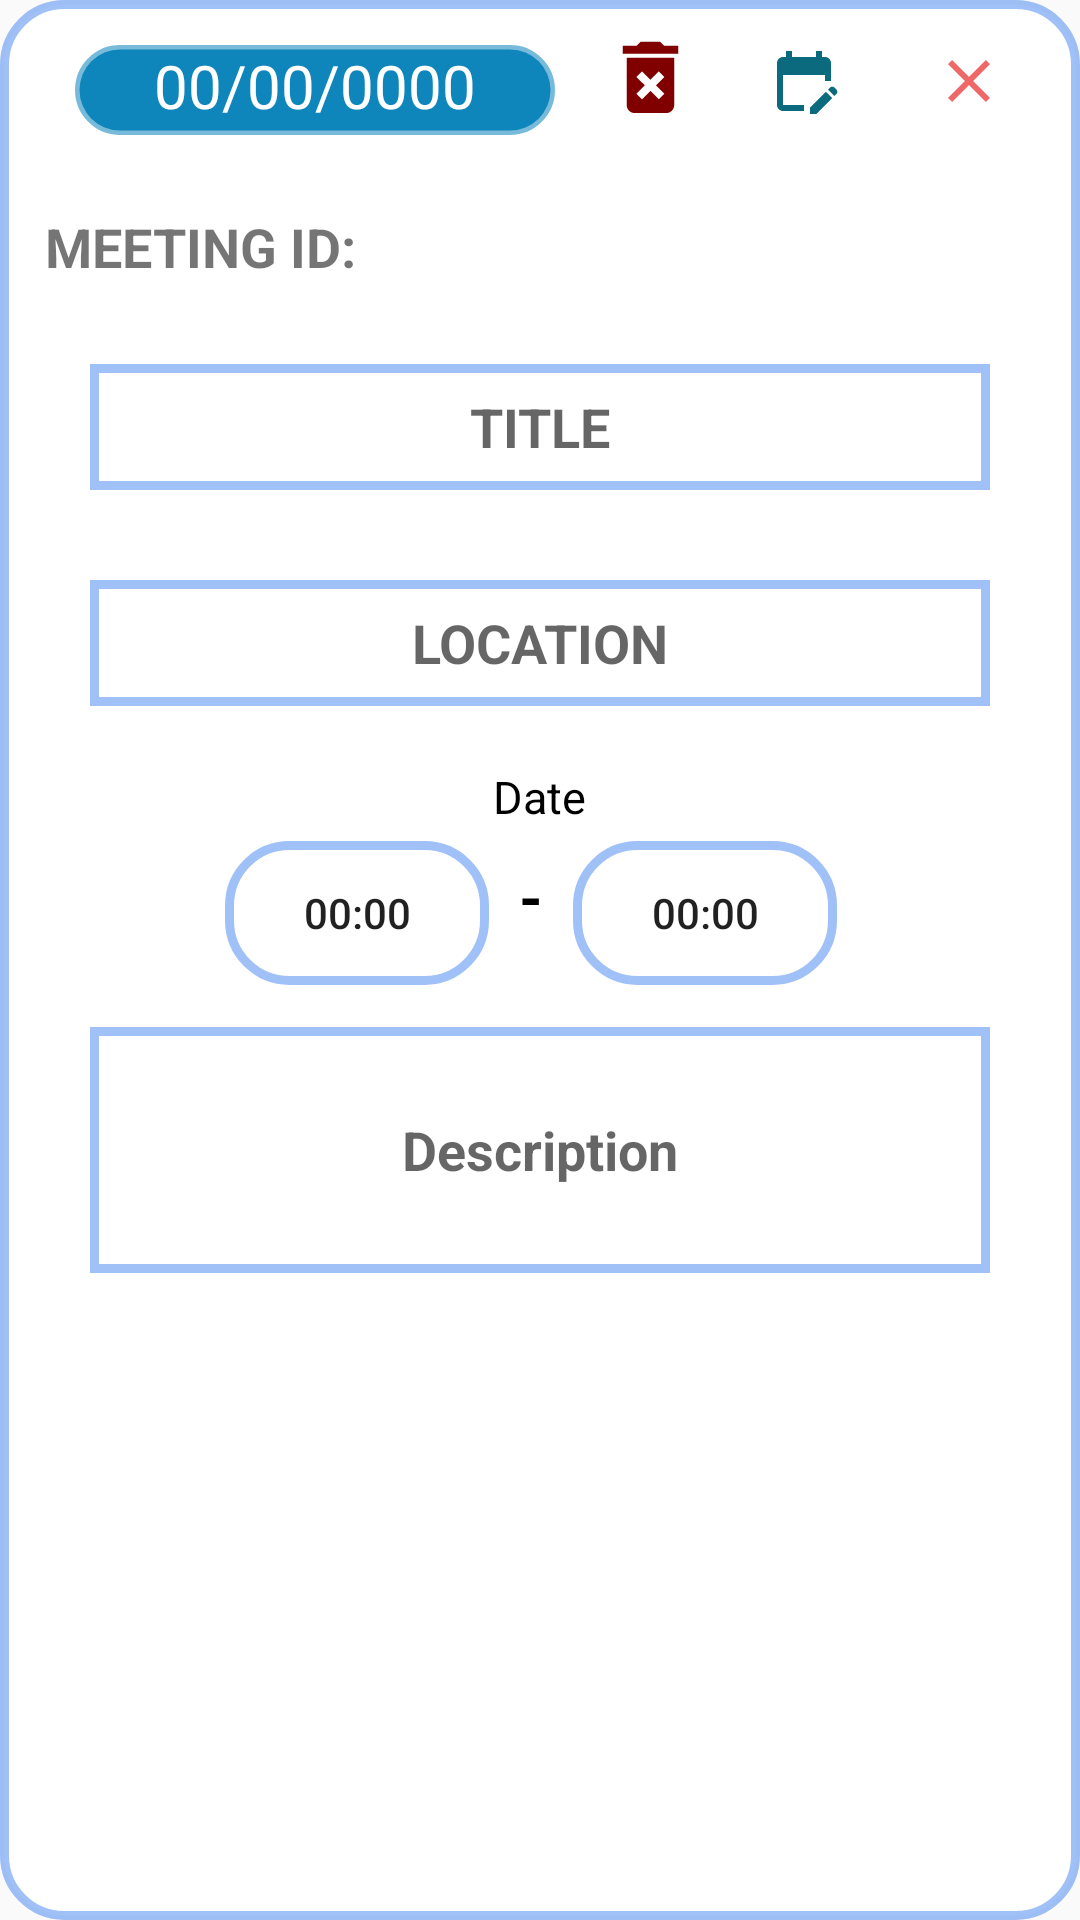

Icon bounding boxes for this 1080px×1920px phone screenshot, format {"left": x1, "top": y1, "right": x2, "bottom": y2}:
close: {"left": 948, "top": 60, "right": 990, "bottom": 102}
delete: {"left": 622, "top": 41, "right": 679, "bottom": 113}
edit: {"left": 777, "top": 51, "right": 838, "bottom": 114}
